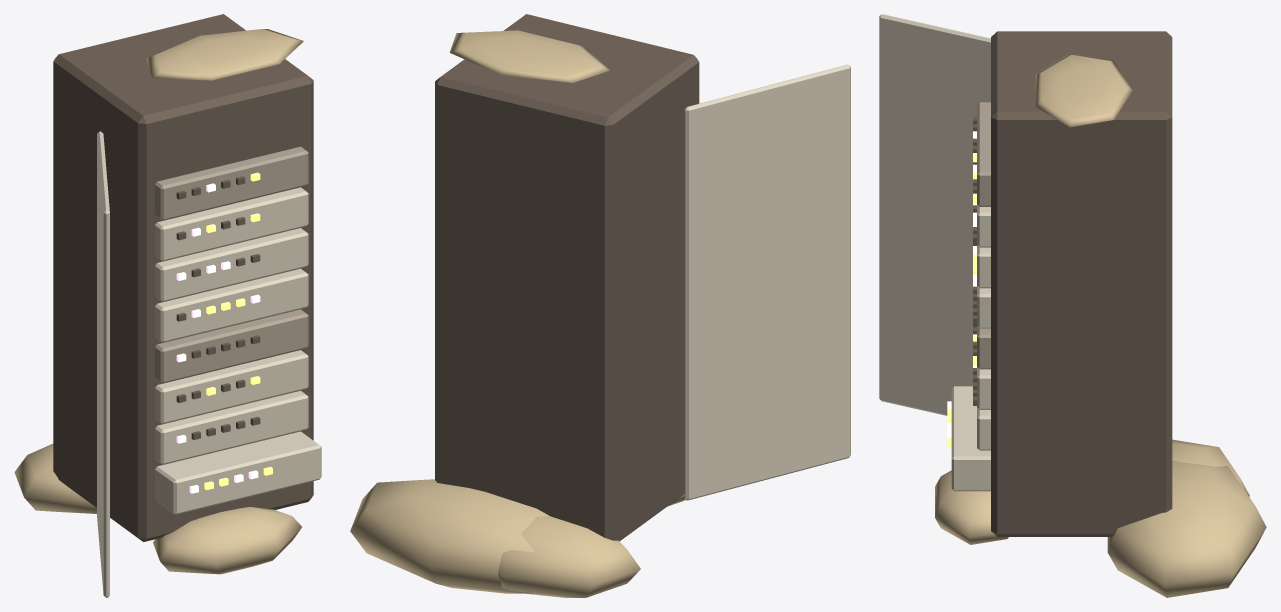
The model's file is du_rack.glb.
The picture shows the model from 3 angles, left to right: view 1: azimuth 30°, elevation 25°; view 2: azimuth 150°, elevation 25°; view 3: azimuth 270°, elevation 25°; orthographic projection.
Parts seen in each view (by area): view 1: du_rack; view 2: du_rack; view 3: du_rack.
Boxes of the visible parts, x1,y1,x2,y2 form: du_rack: [14, 14, 321, 597]; du_rack: [350, 14, 850, 597]; du_rack: [879, 14, 1266, 597].
Bounding box in the file's own units: 1.83 × 2.5 × 1.82.
